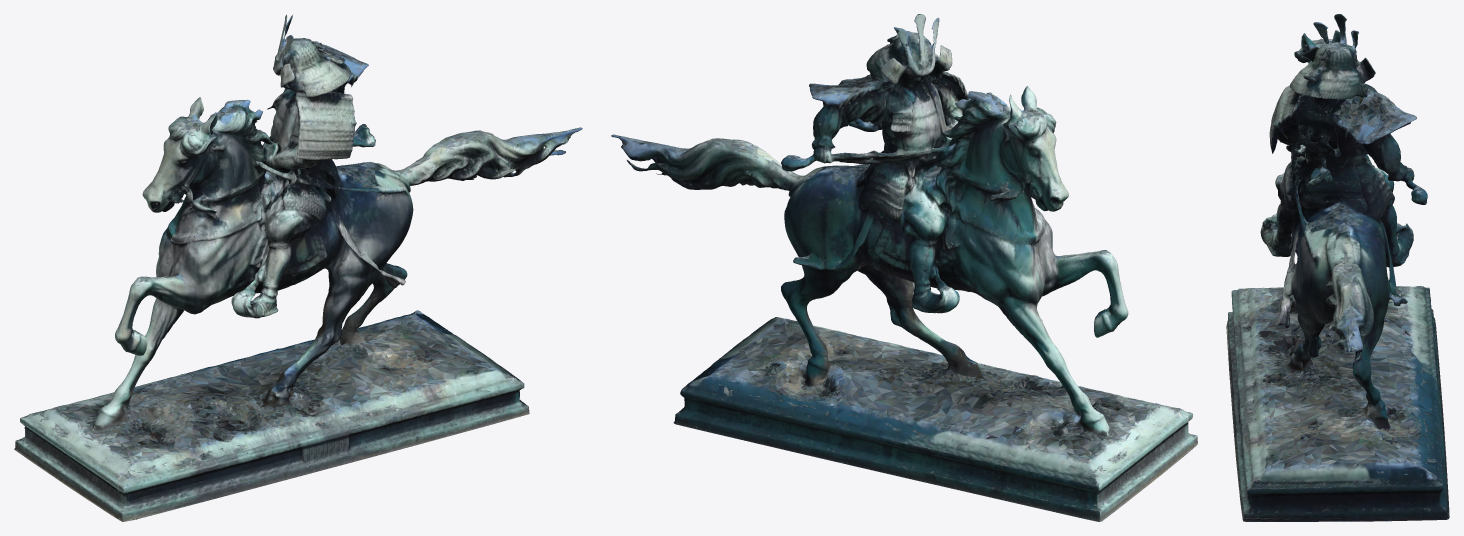
File: sf-kusunoki-masashige-takamura-koun-bde1be.glb
3 renders of one model, left to right at view 1: azimuth 30°, elevation 25°; view 2: azimuth 150°, elevation 25°; view 3: azimuth 270°, elevation 25°, orthographic.
Parts seen in each view (by area): view 1: Object_2; view 2: Object_2; view 3: Object_2.
Boxes of the visible parts, x1,y1,x2,y2 form: Object_2: (14,14,582,521); Object_2: (611,14,1197,521); Object_2: (1226,14,1449,521).
Bounding box in the file's own units: 6.84 × 5.13 × 2.5.
Materials: 1 (1 with a texture image).
